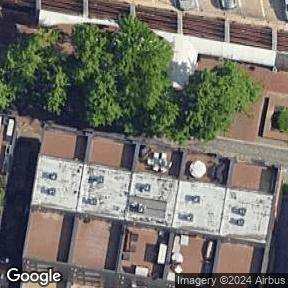vegetation: (277, 108, 288, 132)
